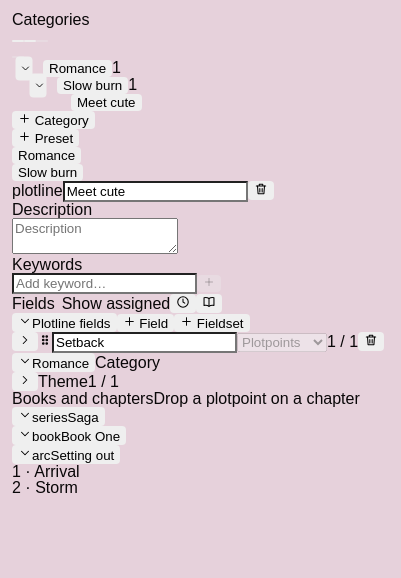
Scenario: the plotline editor: fields and values › shows unassigned / total on a field and a reference to a category value under its field
Check: the text "1 / 1" is shown 2 times, box [327, 333, 358, 350]; [88, 373, 119, 390]
Click the button named "Expand Theme": (25, 382) [12, 372, 38, 391]
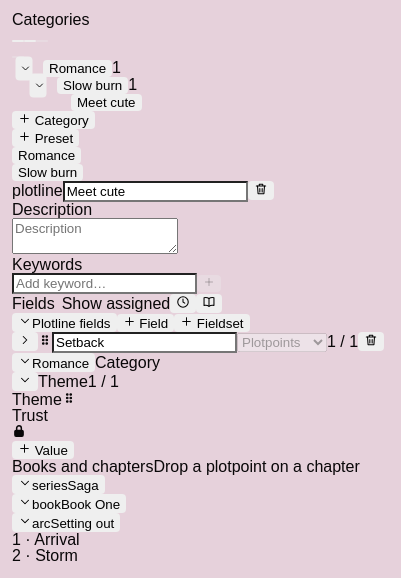
Check: the text "Trust" is shown, box [12, 407, 48, 424]
